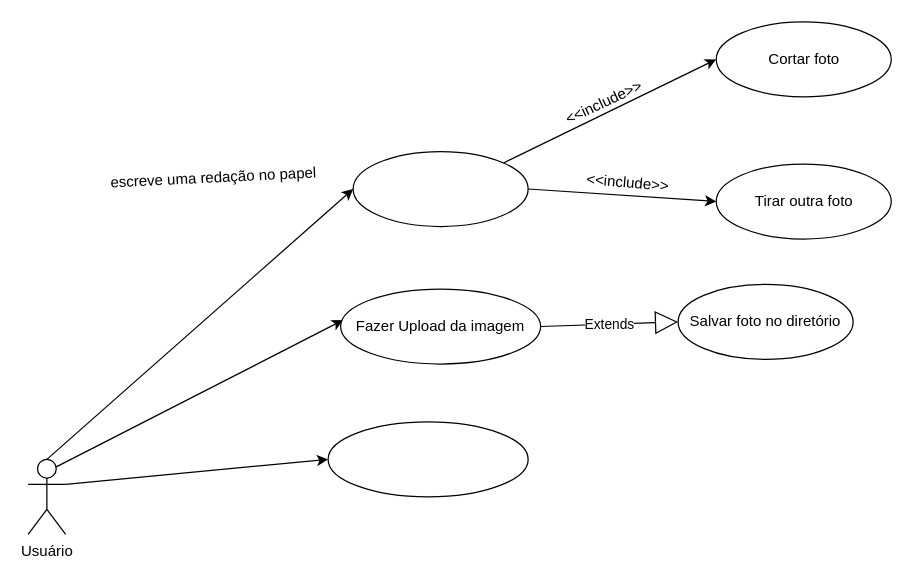
Image size: 914x583. Some labels were removed from this diagram. The box of each missing label's shape, as (x1, y1, x2, y2) in pixels:
Corrigir: (327, 421, 528, 497)
Tirar Foto: (352, 150, 528, 226)
